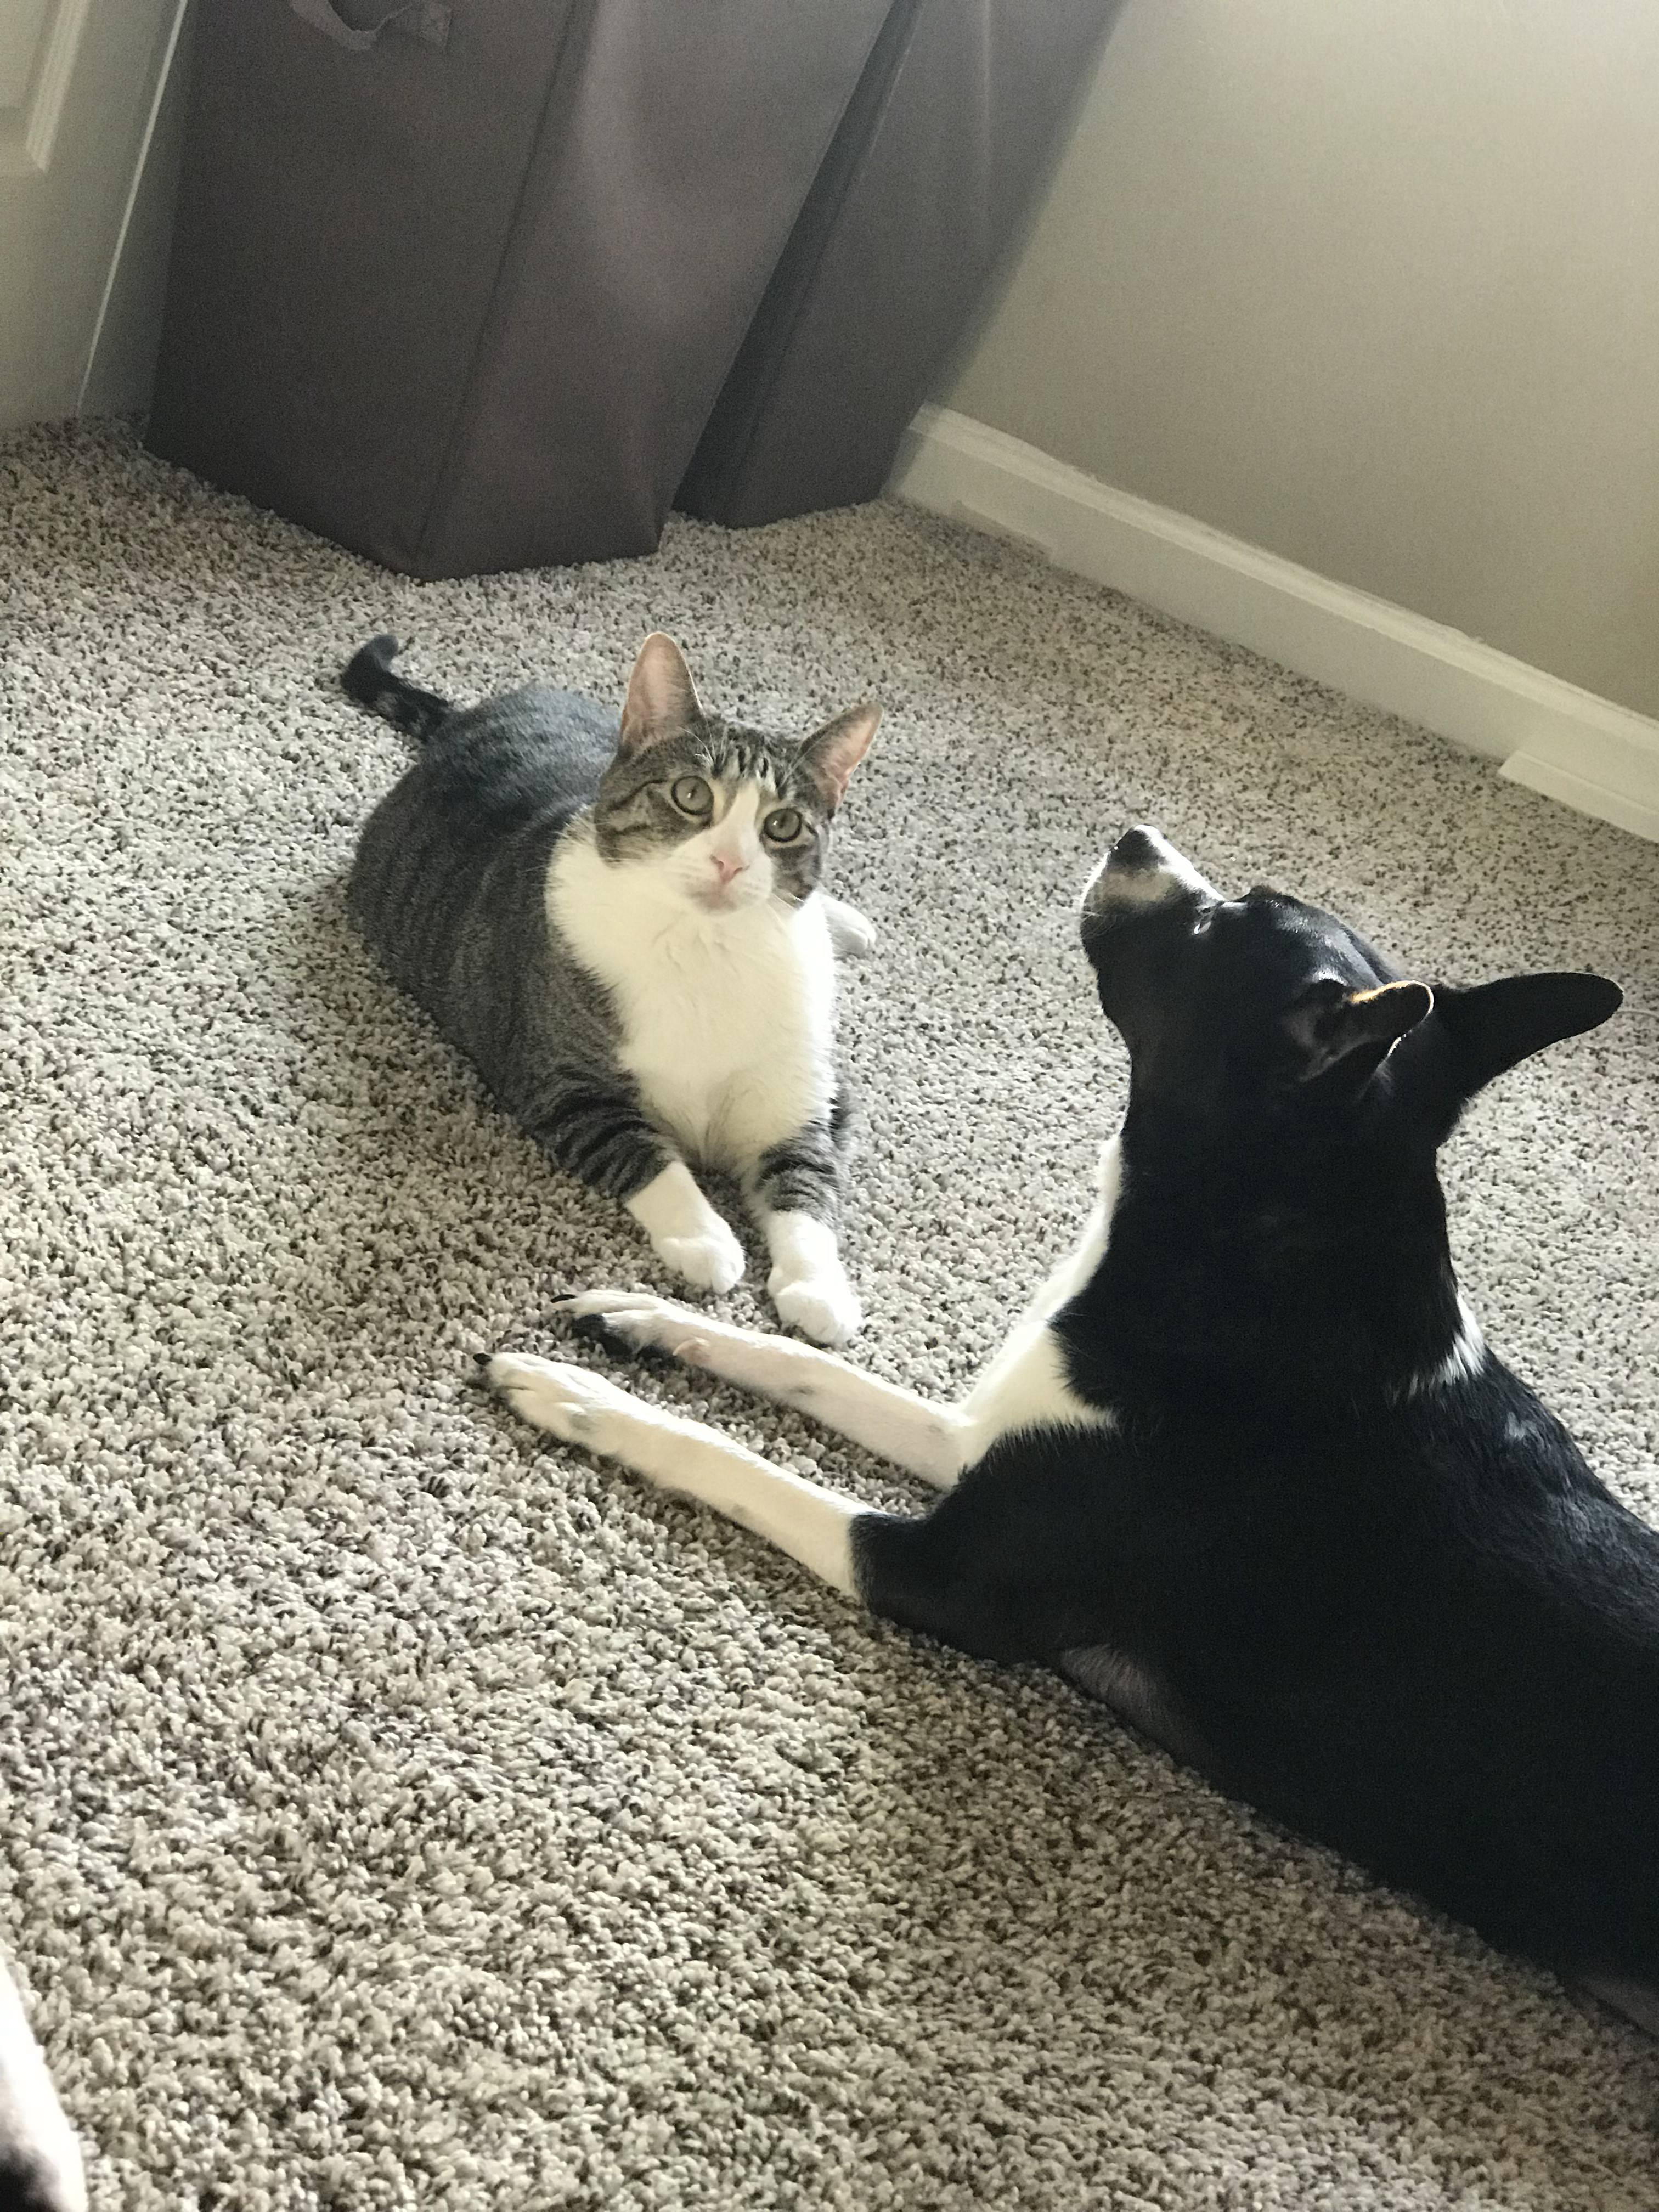Harley: (903, 770, 1659, 2010)
